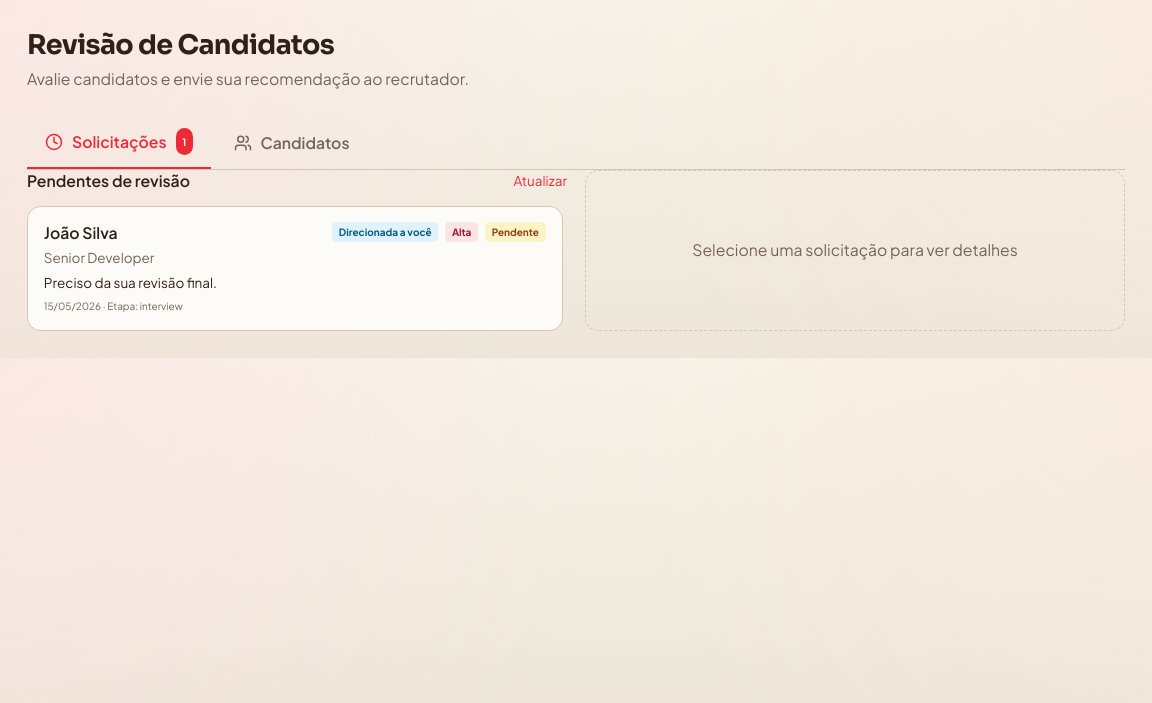
Test: ManagerReviewPage › exibe scorecard já submetido em modo leitura ao selecionar solicitação
Click the button "João Silva". click: (81, 233)
box: [27,206,562,330]
(page scrolled)
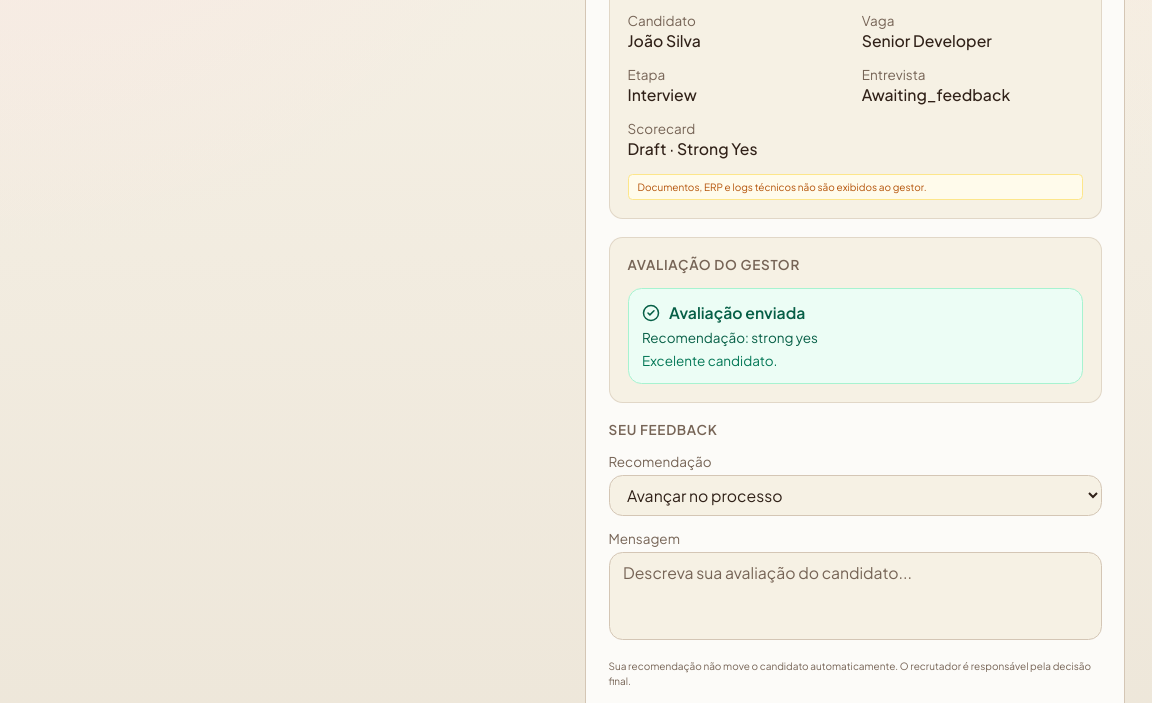
Result: the text "Avaliação enviada" is shown at [642,303,805,322]
Result: the text "Excelente candidato." is shown at [642,352,778,368]
